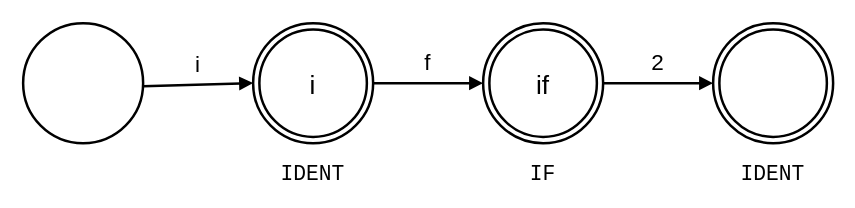
Image size: 855x208. Some labels were removed from this diagram. The box of each missing label's shape, as (x1, y1, x2, y2) in pixels:
Идент.: (711, 21, 834, 144)
Старт: (21, 21, 144, 144)
